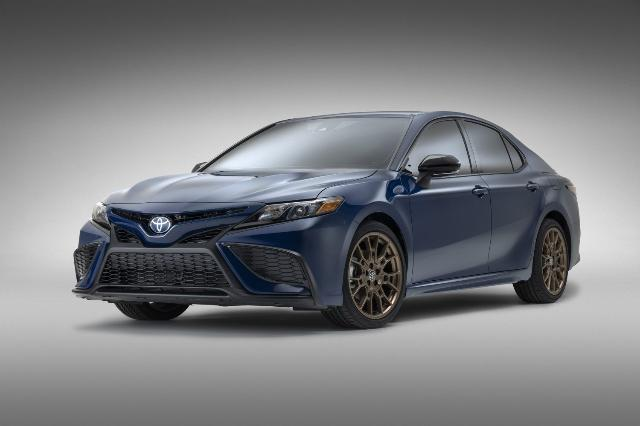toyota: (71, 110, 581, 330)
